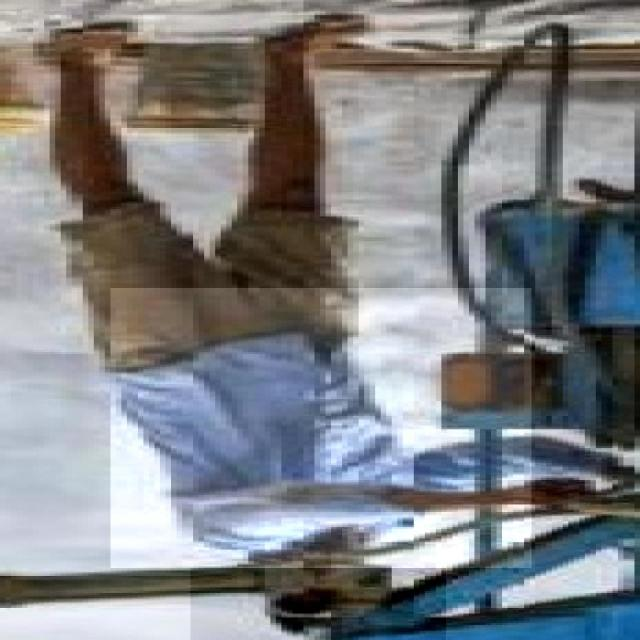Helmet: (110, 288, 532, 568), (190, 534, 446, 640)
